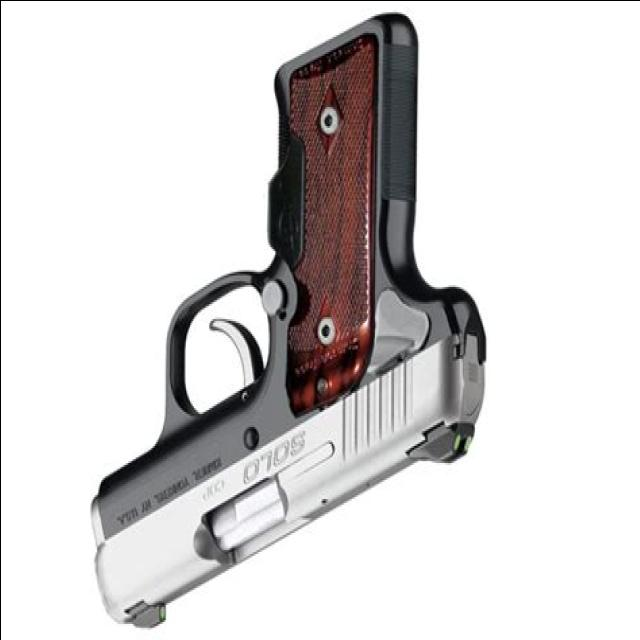weapons: (84, 8, 497, 636)
